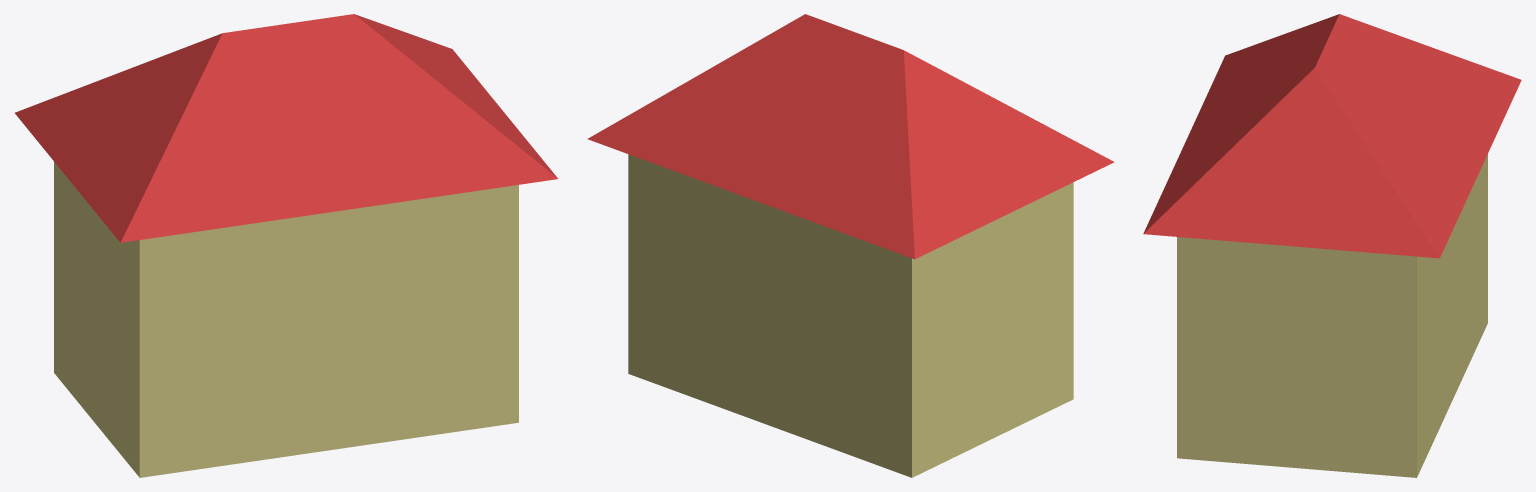
3 renders of one model, left to right at view 1: azimuth 30°, elevation 25°; view 2: azimuth 150°, elevation 25°; view 3: azimuth 270°, elevation 25°, orthographic. The views are drawn at different scales.
Parts seen in each view (by area): view 1: group_5, group_3, group_4; view 2: group_5, group_3, group_4; view 3: group_5, group_3, group_4.
Part boxes in pixels (bbox=[...]): group_5: bbox=[54, 162, 518, 477]; group_3: bbox=[54, 14, 557, 242]; group_4: bbox=[15, 97, 557, 242]; group_5: bbox=[628, 154, 1073, 477]; group_3: bbox=[587, 14, 1073, 259]; group_4: bbox=[609, 118, 1114, 258]; group_5: bbox=[1177, 154, 1487, 477]; group_3: bbox=[1143, 14, 1521, 258]; group_4: bbox=[1143, 47, 1520, 237].
Size of the model in its own units: 16.59 by 13.08 by 13.33.
